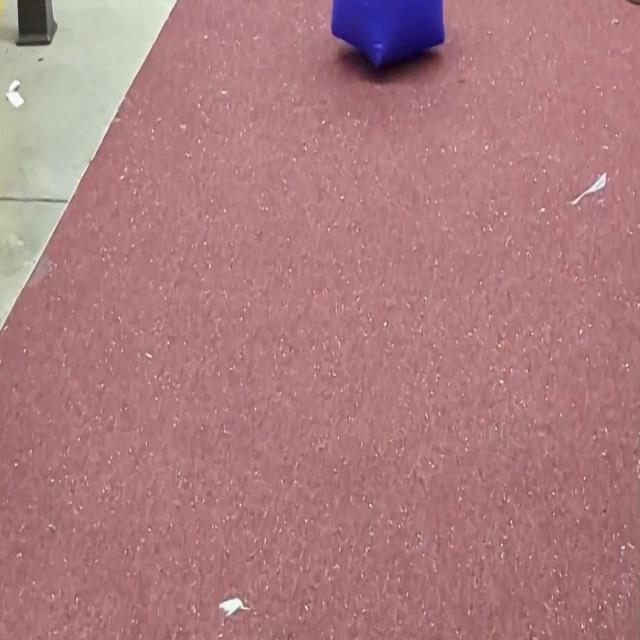frc_cube: (330, 0, 445, 68)
